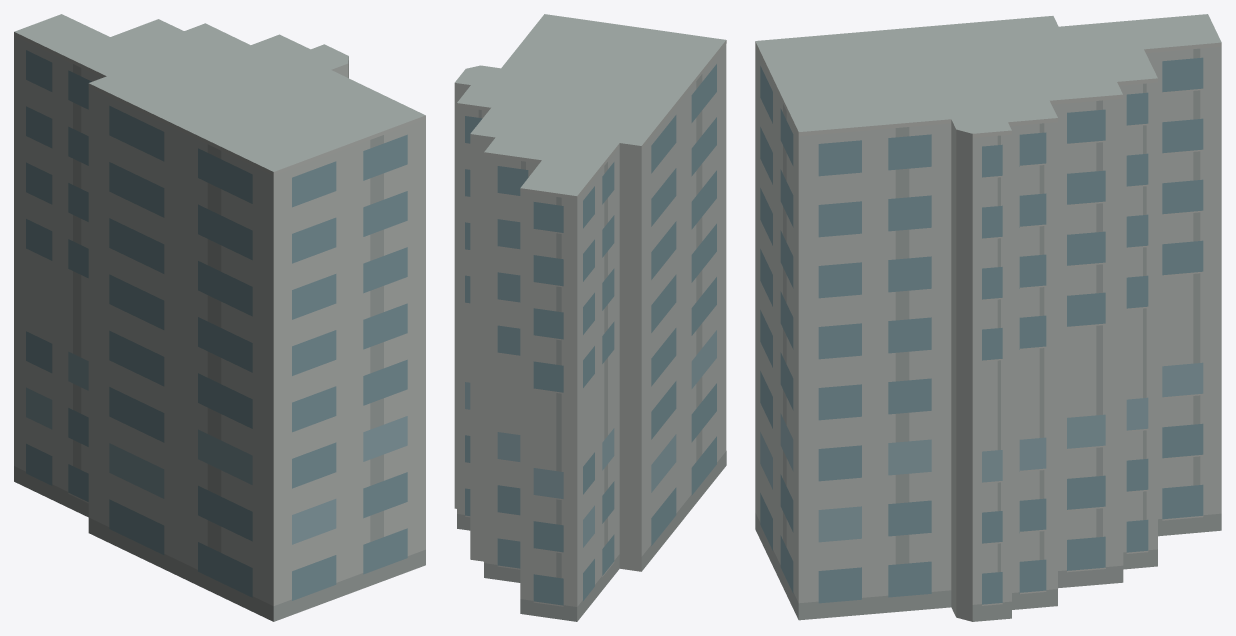
Rendered from survey-upis-32631906.glb.
3 renders of one model, left to right at view 1: azimuth 30°, elevation 25°; view 2: azimuth 150°, elevation 25°; view 3: azimuth 270°, elevation 25°, orthographic. The views are drawn at different scales.
Visible parts, largest first — view 1: survey-upis-32631906.tmp; view 2: survey-upis-32631906.tmp; view 3: survey-upis-32631906.tmp.
Part boxes in pixels (box(x1,y1,x2,y2)): survey-upis-32631906.tmp: box(14, 14, 425, 621); survey-upis-32631906.tmp: box(454, 14, 726, 621); survey-upis-32631906.tmp: box(755, 14, 1221, 621).
Size of the model in its own units: 15.01 by 28.5 by 24.69.
